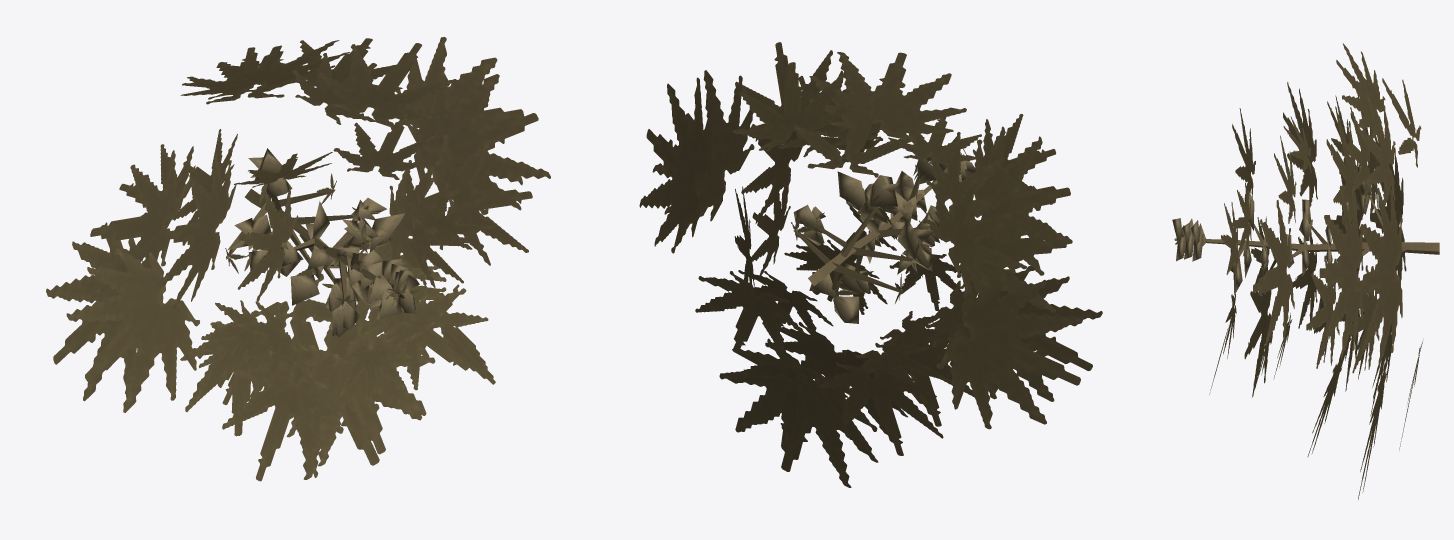
File: p_male_landrace_flowering_c4_cards.obj
The picture shows the model from 3 angles, left to right: view 1: azimuth 30°, elevation 25°; view 2: azimuth 150°, elevation 25°; view 3: azimuth 270°, elevation 25°; orthographic projection. The views are drawn at different scales.
Size of the model in its own units: 1.56 by 1.39 by 0.76.
Materials: 1 (1 with a texture image).
